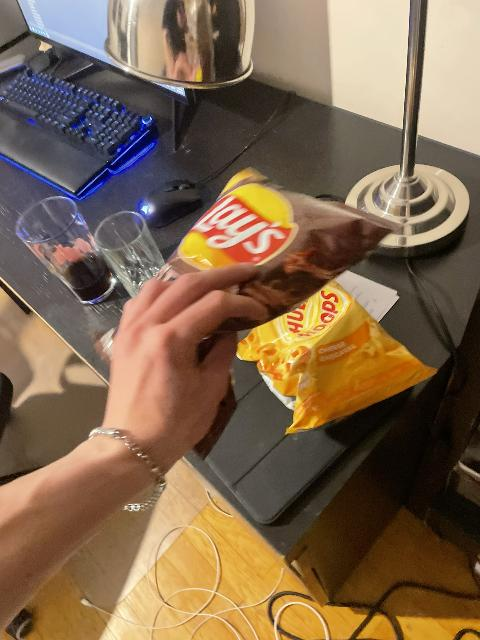Chio Hula Hoops Cheese 70g: (238, 279, 431, 428)
Lays Beef Grilled Ribs 125g: (94, 168, 397, 463)
